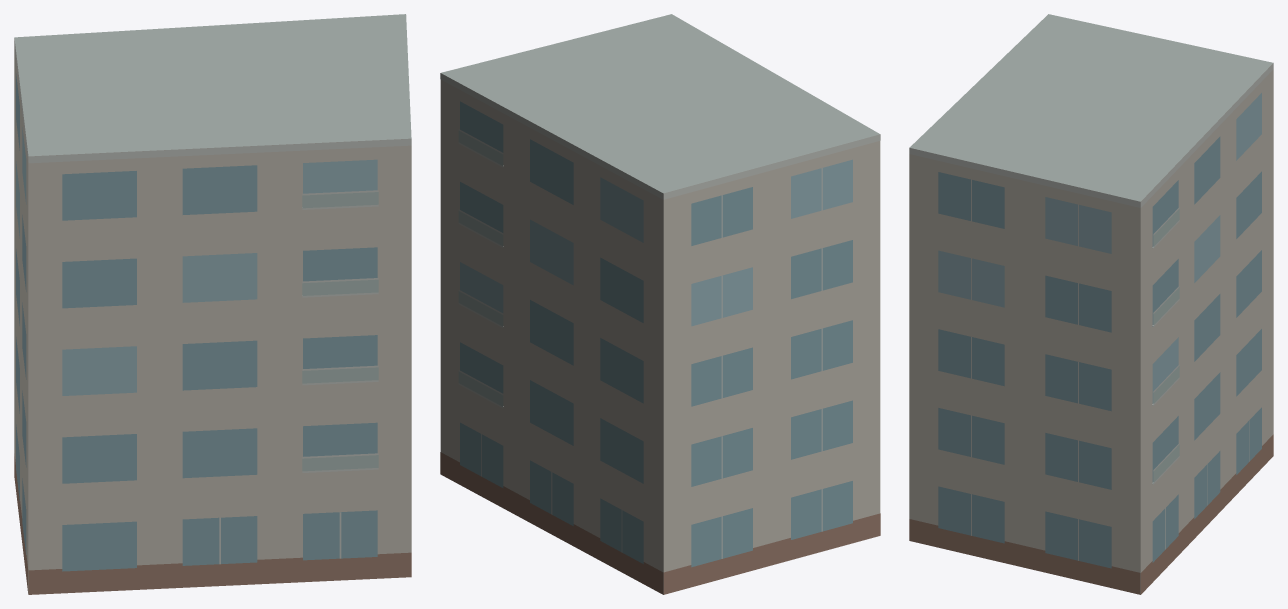
Rendered from survey-upis-32527551.glb.
The picture shows the model from 3 angles, left to right: view 1: azimuth 30°, elevation 25°; view 2: azimuth 150°, elevation 25°; view 3: azimuth 270°, elevation 25°; orthographic projection. The views are drawn at different scales.
Visible parts, largest first — view 1: survey-upis-32527551.tmp; view 2: survey-upis-32527551.tmp; view 3: survey-upis-32527551.tmp.
Boxes of the visible parts, box(x1,y1,x2,y2) form: survey-upis-32527551.tmp: box(14, 14, 411, 594); survey-upis-32527551.tmp: box(440, 14, 880, 594); survey-upis-32527551.tmp: box(909, 14, 1273, 594).
Size of the model in its own units: 15.63 by 15.25 by 12.81.
